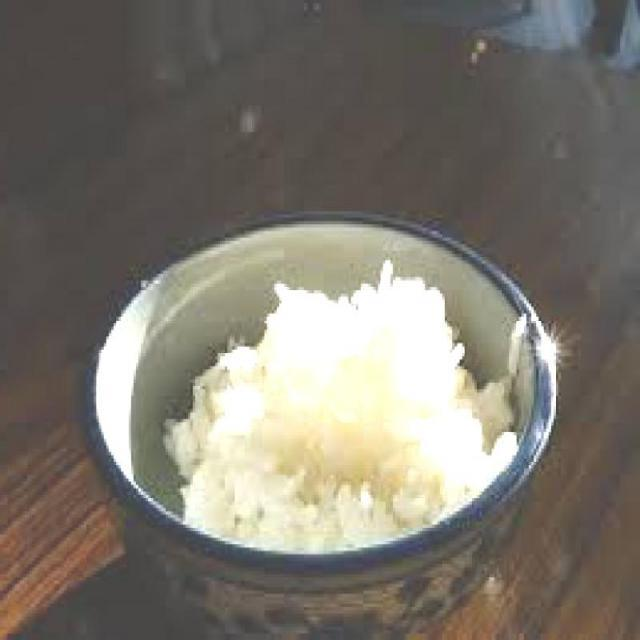rice: (163, 260, 514, 555)
